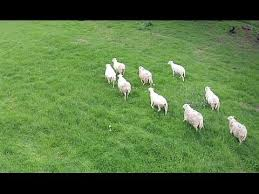sheep: (146, 86, 170, 115), (181, 102, 204, 131), (226, 115, 248, 144), (203, 83, 222, 114), (116, 72, 134, 102), (167, 59, 187, 81), (102, 61, 117, 84), (137, 65, 154, 85), (112, 55, 126, 75)
